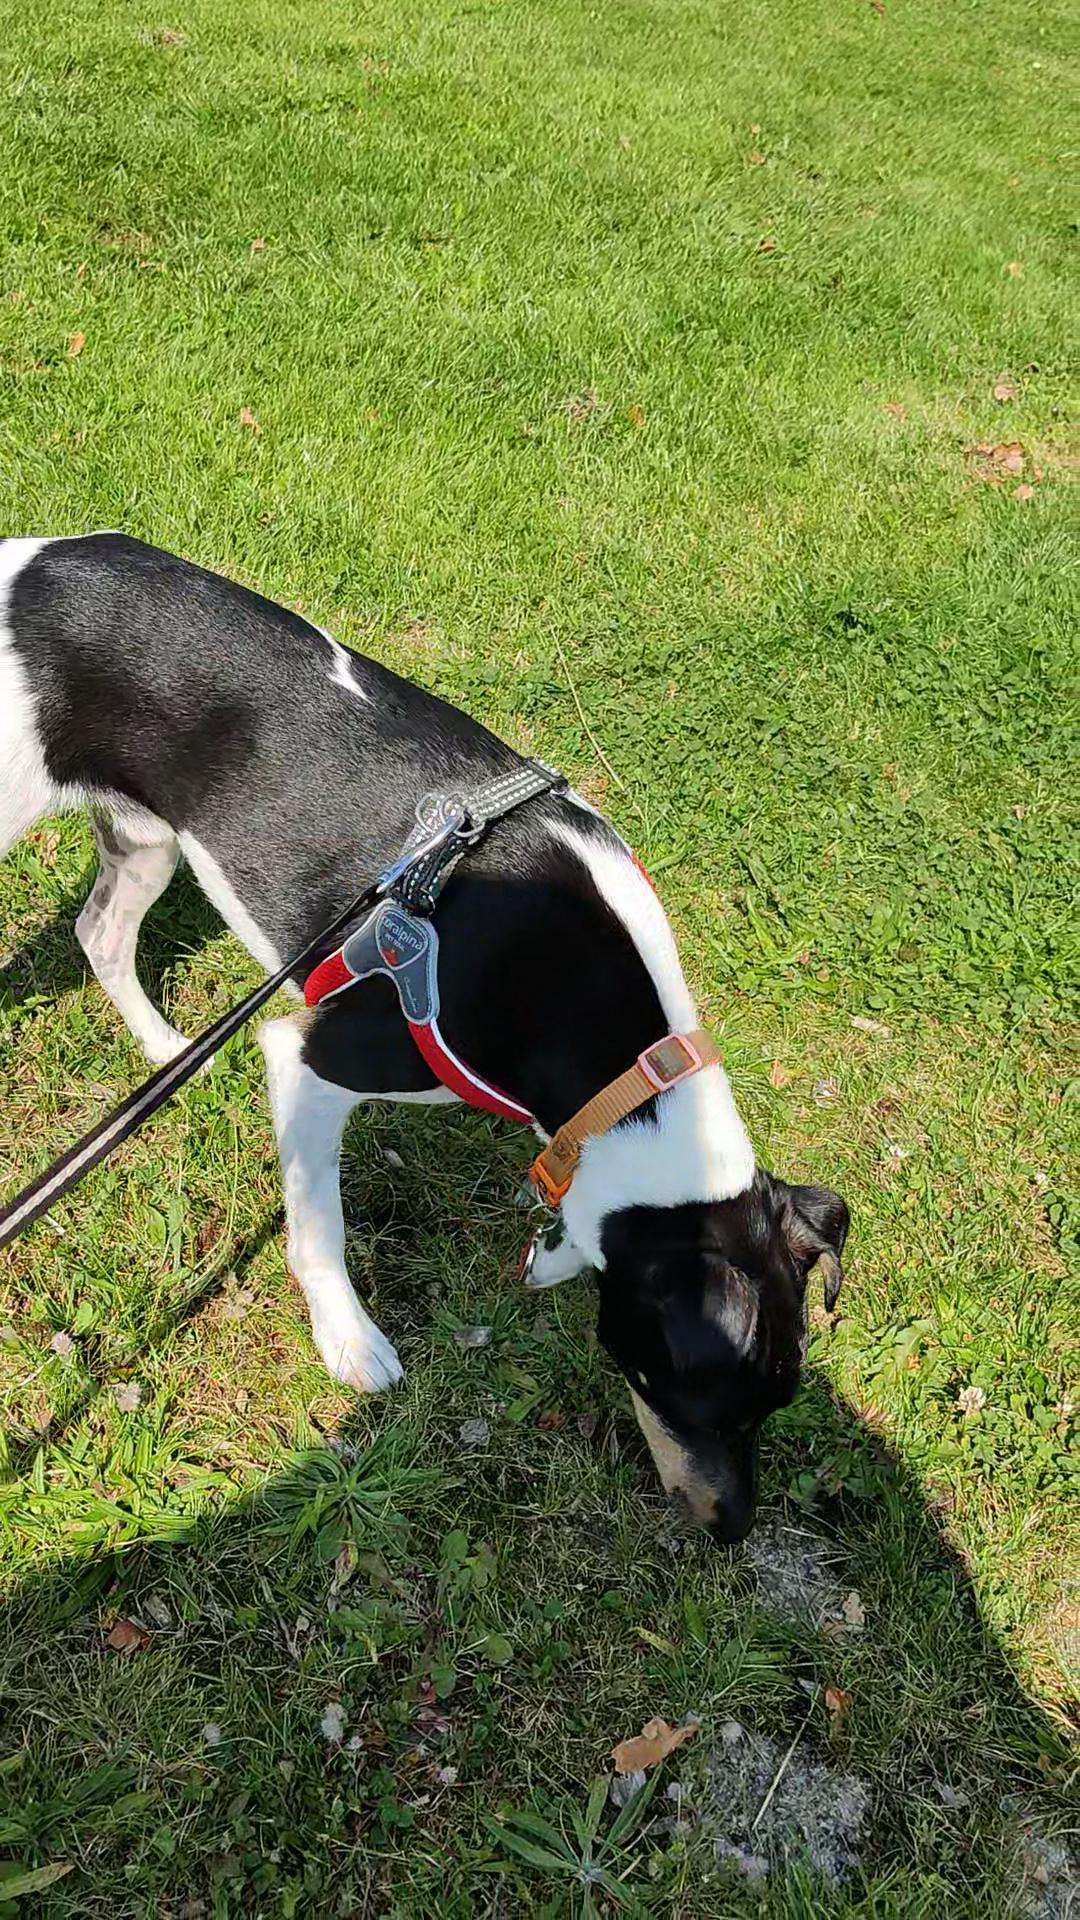Dog: (0, 526, 857, 1553)
